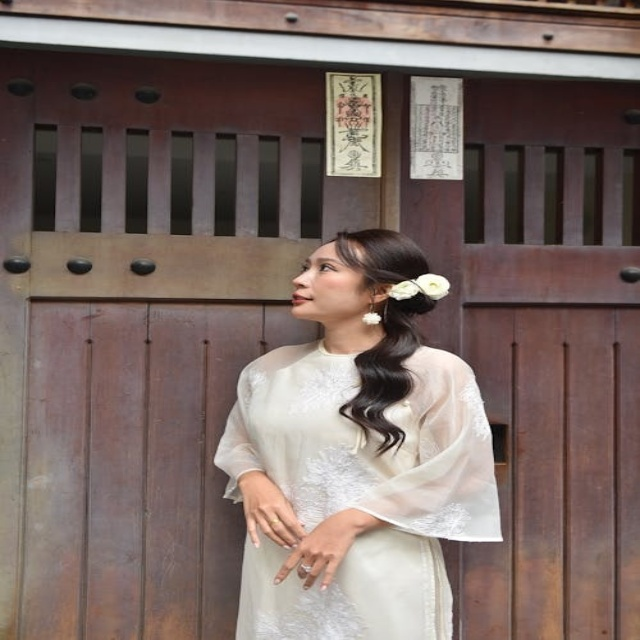Sin_gafas: (294, 256, 348, 274)
Sin_guantes: (266, 506, 379, 596), (224, 474, 301, 549)
Sin_mascara: (287, 287, 332, 312)
